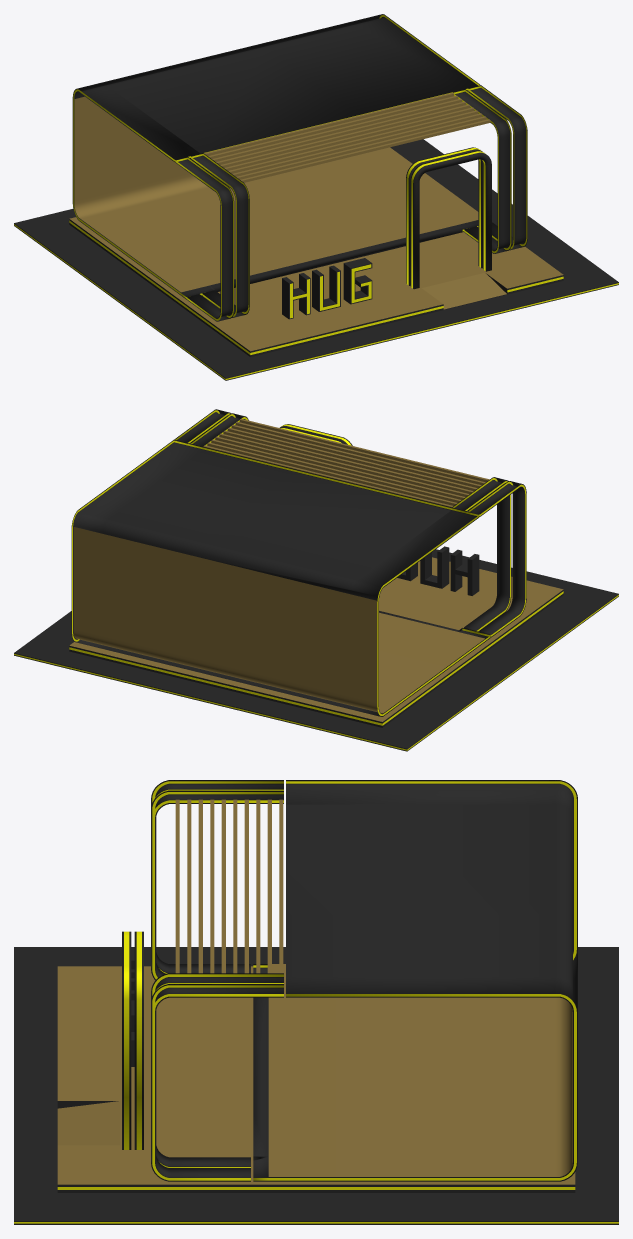
The model's file is Cube-Presentation-Projet-Doceo-Version-2.fbx.
3 views of the same model, one above another, from view 1: azimuth 30°, elevation 25°; view 2: azimuth 150°, elevation 25°; view 3: azimuth 270°, elevation 25° (orthographic). The views are drawn at different scales.
Parts seen in each view (by area): view 1: Cube-Bois-Essence-2, Cube-Bois-Essence-1, Cube-Bois-Lumineux-2; view 2: Cube-Bois-Essence-2, Cube-Bois-Essence-1, Cube-Bois-Lumineux-2; view 3: Cube-Bois-Essence-2, Cube-Bois-Essence-1, Cube-Bois-Lumineux-2.
Boxes of the visible parts, left/top/right/bottom form: Cube-Bois-Essence-2: left=14, top=14, right=618, bottom=380; Cube-Bois-Essence-1: left=69, top=92, right=563, bottom=351; Cube-Bois-Lumineux-2: left=14, top=15, right=618, bottom=379; Cube-Bois-Essence-2: left=14, top=409, right=618, bottom=751; Cube-Bois-Essence-1: left=69, top=418, right=563, bottom=721; Cube-Bois-Lumineux-2: left=14, top=410, right=618, bottom=750; Cube-Bois-Essence-2: left=14, top=780, right=618, bottom=1224; Cube-Bois-Essence-1: left=57, top=799, right=575, bottom=1184; Cube-Bois-Lumineux-2: left=14, top=781, right=618, bottom=1223.
Size of the model in its own units: 859 by 295 by 801.
4 materials, 2 textured.
